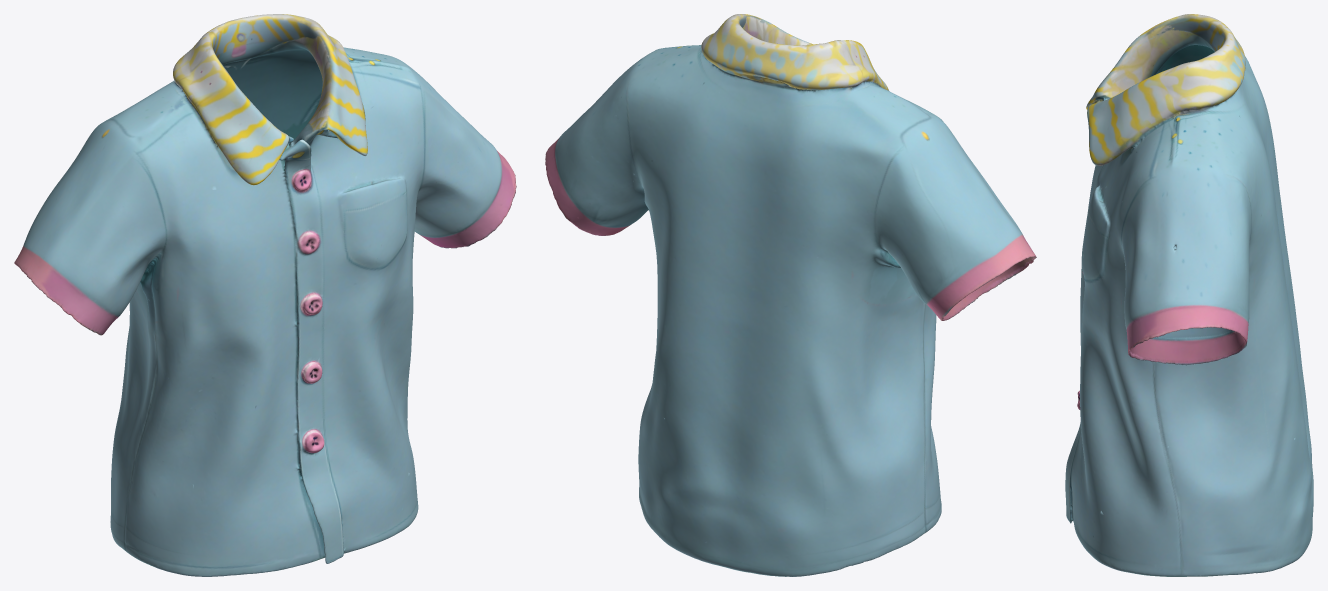
Rendered from shirt.glb.
3 renders of one model, left to right at view 1: azimuth 30°, elevation 25°; view 2: azimuth 150°, elevation 25°; view 3: azimuth 270°, elevation 25°, orthographic.
Size of the model in its own units: 65299 by 65523 by 29829.
1 material, 1 textured.
